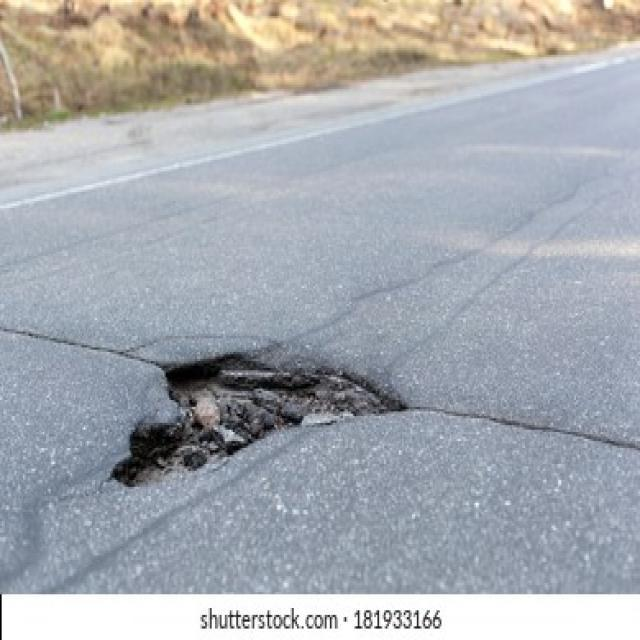Pothole: (110, 349, 406, 492)
